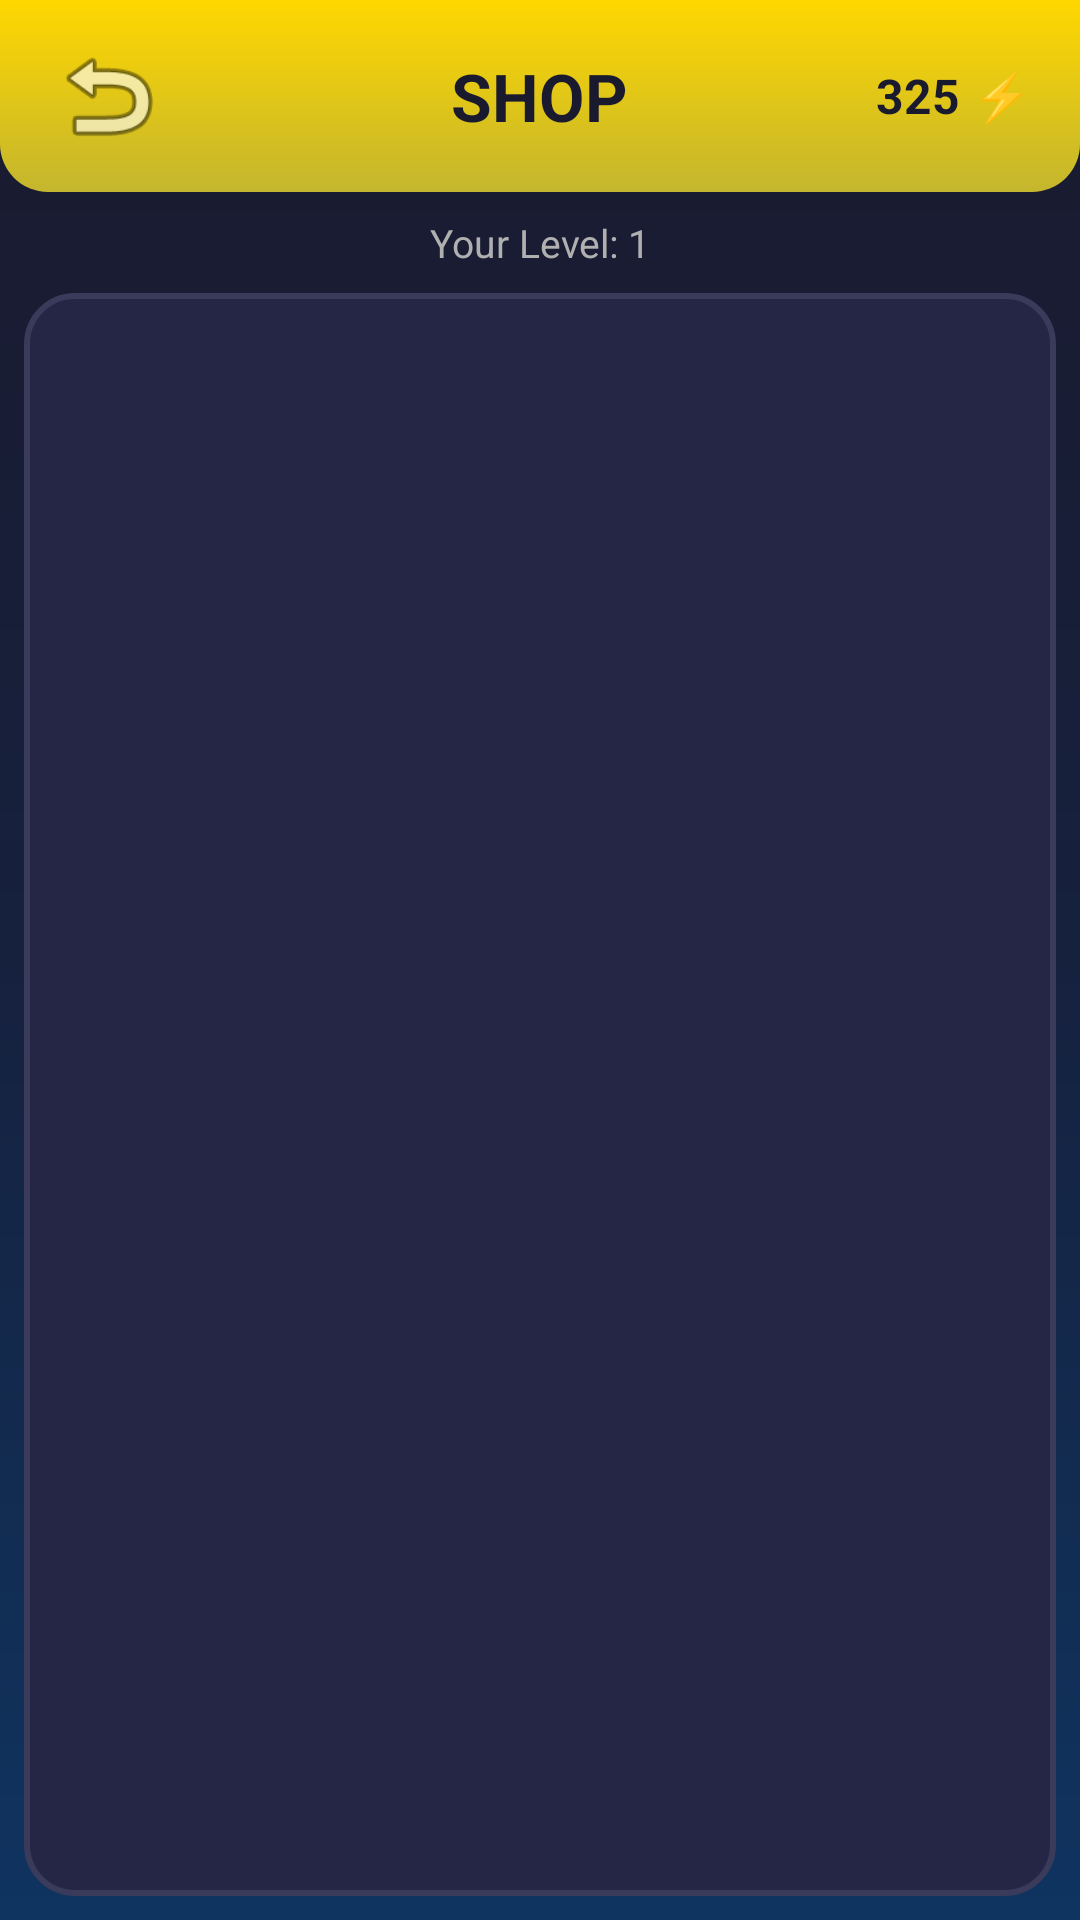

Screen size 1080px x 1920px. Icon name, then its center in pixels as [x,y]:
Back: [108,96]
